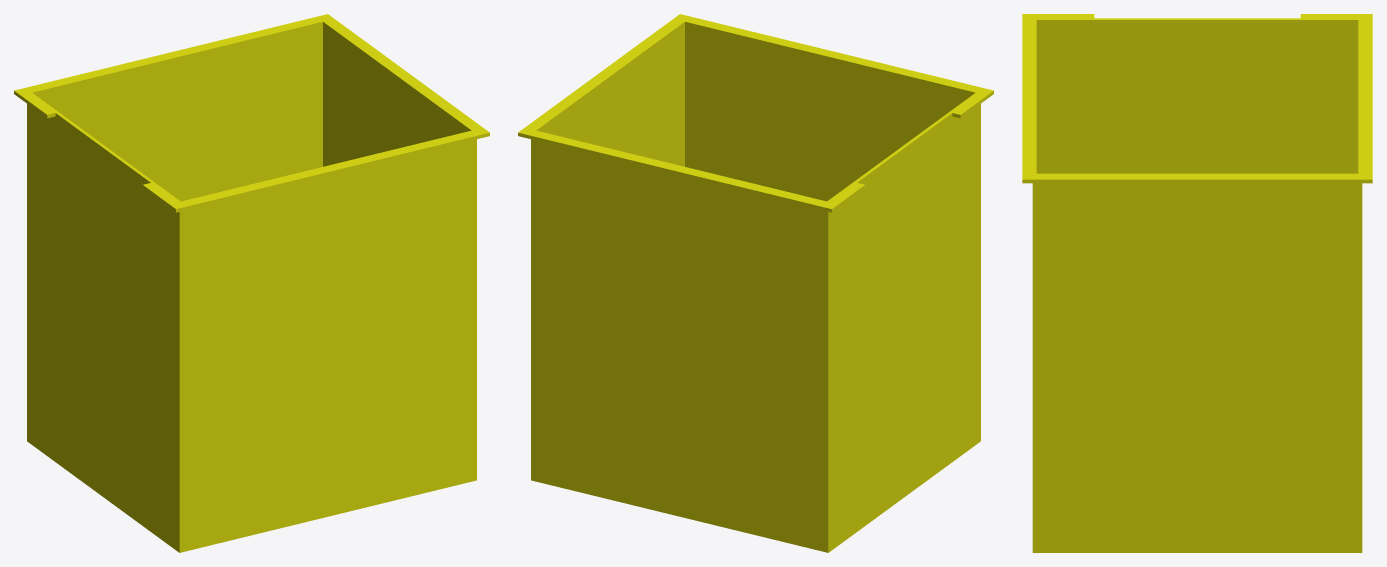
File: trash_tray.dae
The picture shows the model from 3 angles, left to right: view 1: azimuth 30°, elevation 25°; view 2: azimuth 150°, elevation 25°; view 3: azimuth 270°, elevation 25°; orthographic projection. The views are drawn at different scales.
Visible parts, largest first — view 1: Trash Tray(3); view 2: Trash Tray(3); view 3: Trash Tray(3).
Boxes of the visible parts, <box> form: Trash Tray(3): <box>14,14,489,552</box>; Trash Tray(3): <box>518,14,993,552</box>; Trash Tray(3): <box>1022,14,1372,552</box>.
Size of the model in its own units: 0.19 by 0.1699 by 0.202.
